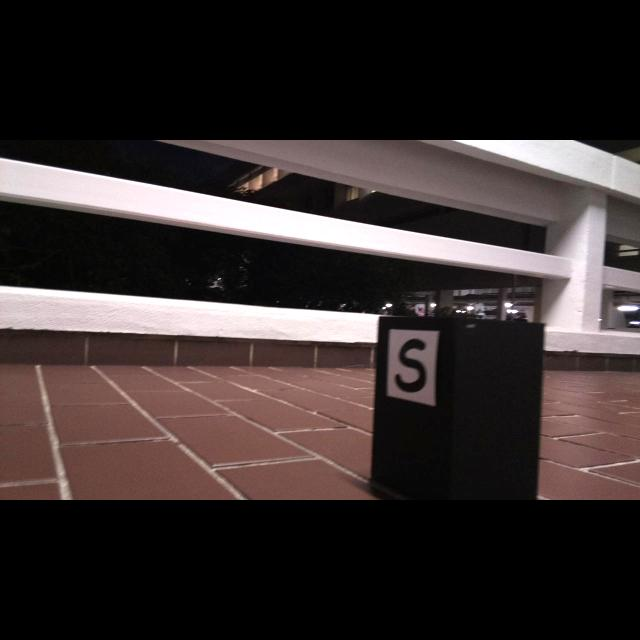S: (395, 339, 426, 393)
